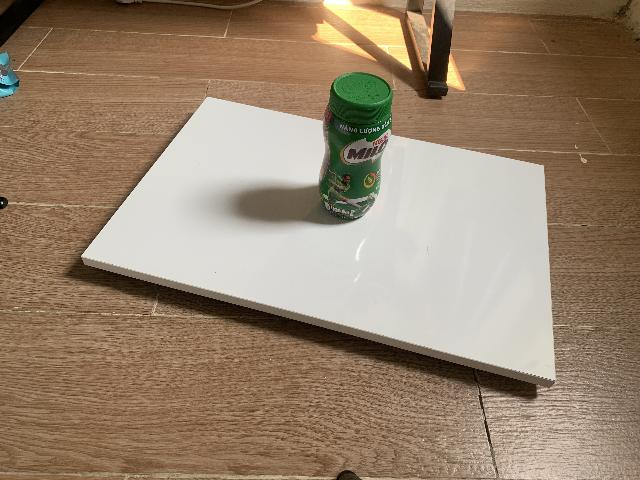milo: (318, 72, 393, 221)
